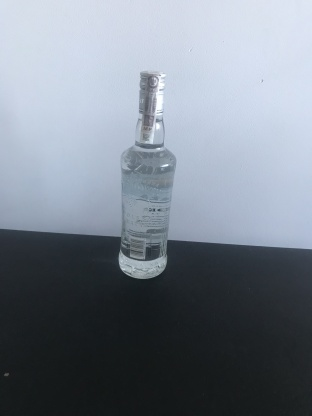nakretka: (137, 68, 168, 116)
